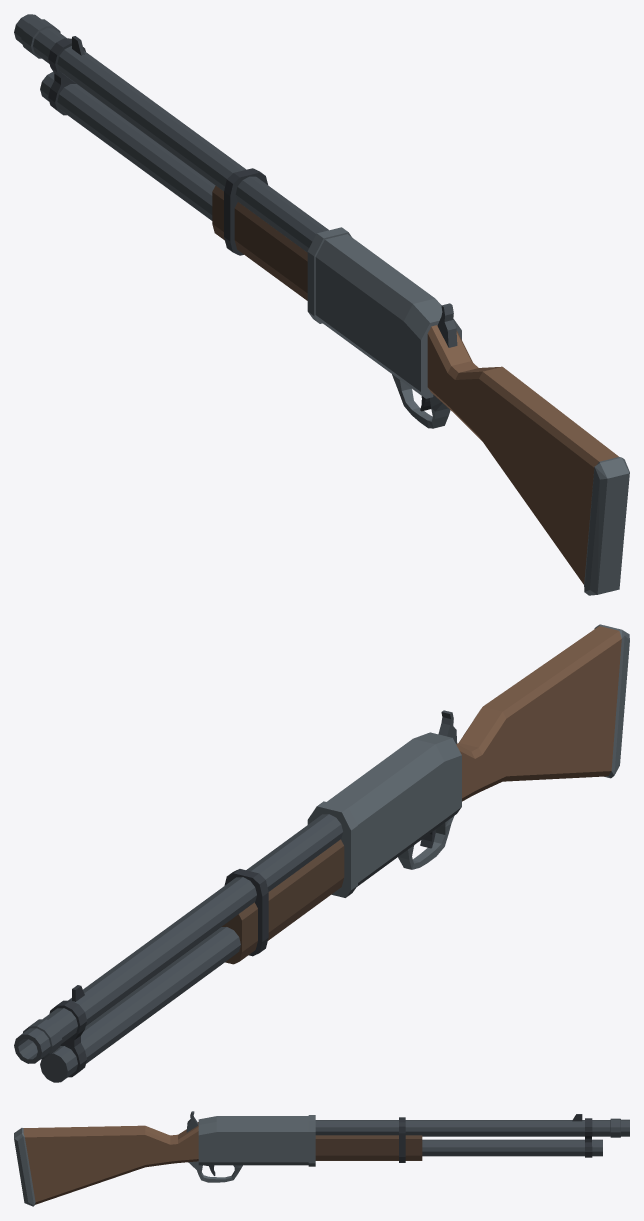
File: railway-pump-shotgun.glb
3 renders of one model, top to bottom at view 1: azimuth 30°, elevation 25°; view 2: azimuth 150°, elevation 25°; view 3: azimuth 270°, elevation 25°, orthographic. The views are drawn at different scales.
Visible parts, largest first — view 1: railway-pump-shotgun; view 2: railway-pump-shotgun; view 3: railway-pump-shotgun.
Boxes of the visible parts, x1,y1,x2,y2 form: railway-pump-shotgun: [14, 14, 629, 595]; railway-pump-shotgun: [14, 624, 629, 1082]; railway-pump-shotgun: [14, 1111, 629, 1206].
Size of the model in its own units: 0.2465 by 0.9495 by 5.78.
